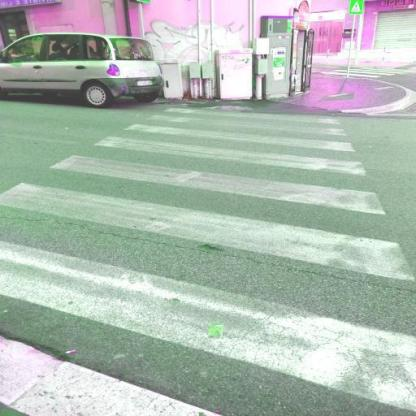crosswalk: (0, 152, 416, 293)
